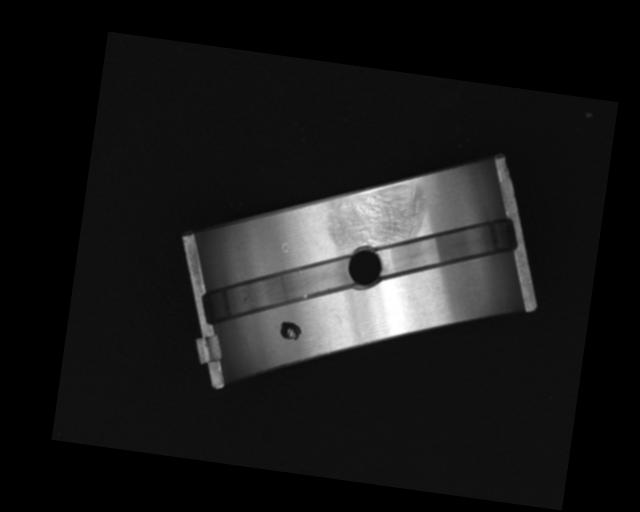blot: (277, 319, 304, 344)
bruise: (280, 240, 290, 255)
gap: (204, 238, 357, 338), (374, 203, 518, 291)
hole: (344, 244, 386, 291)
scratch: (326, 172, 430, 258)
